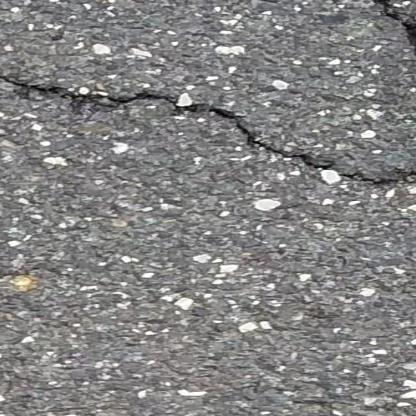Cracks: (0, 74, 297, 172), (359, 0, 416, 77), (315, 163, 416, 194)
